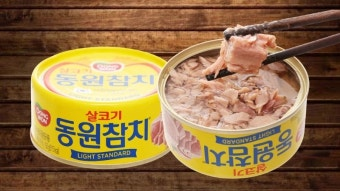paper: (159, 34, 310, 184), (31, 47, 176, 163)
